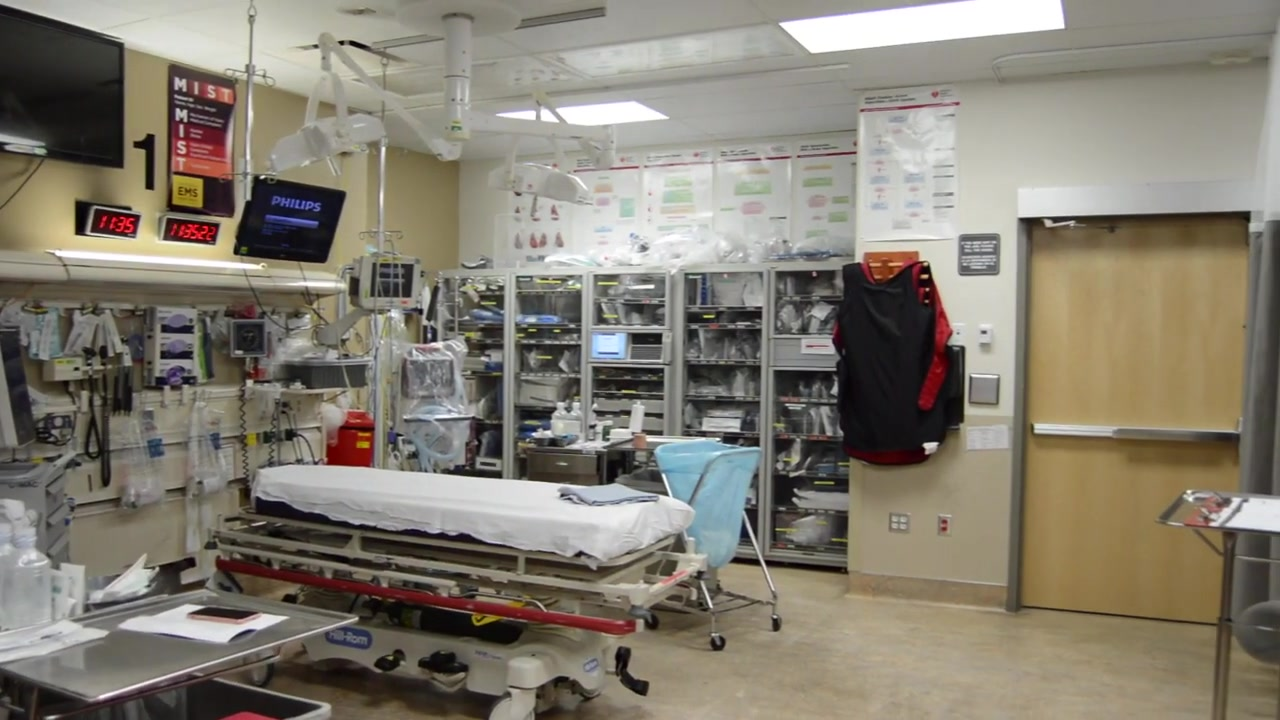TV: (1, 5, 124, 169)
bedside_monitor: (233, 175, 348, 264), (1, 327, 38, 449), (356, 254, 422, 312)
cabinet: (433, 264, 849, 573)
handle: (555, 461, 571, 467)
iv_pole: (358, 52, 407, 470), (218, 1, 279, 200)
medical_drawer: (528, 432, 633, 484)
operating_bed: (205, 463, 709, 720)
press_to_open: (968, 371, 1001, 405)
push_latch: (1029, 420, 1246, 444)
surgical_light: (266, 111, 386, 173), (485, 160, 594, 208)
utility_cart: (1, 585, 358, 720), (1155, 486, 1280, 720)
waste_bin: (652, 441, 785, 644)
